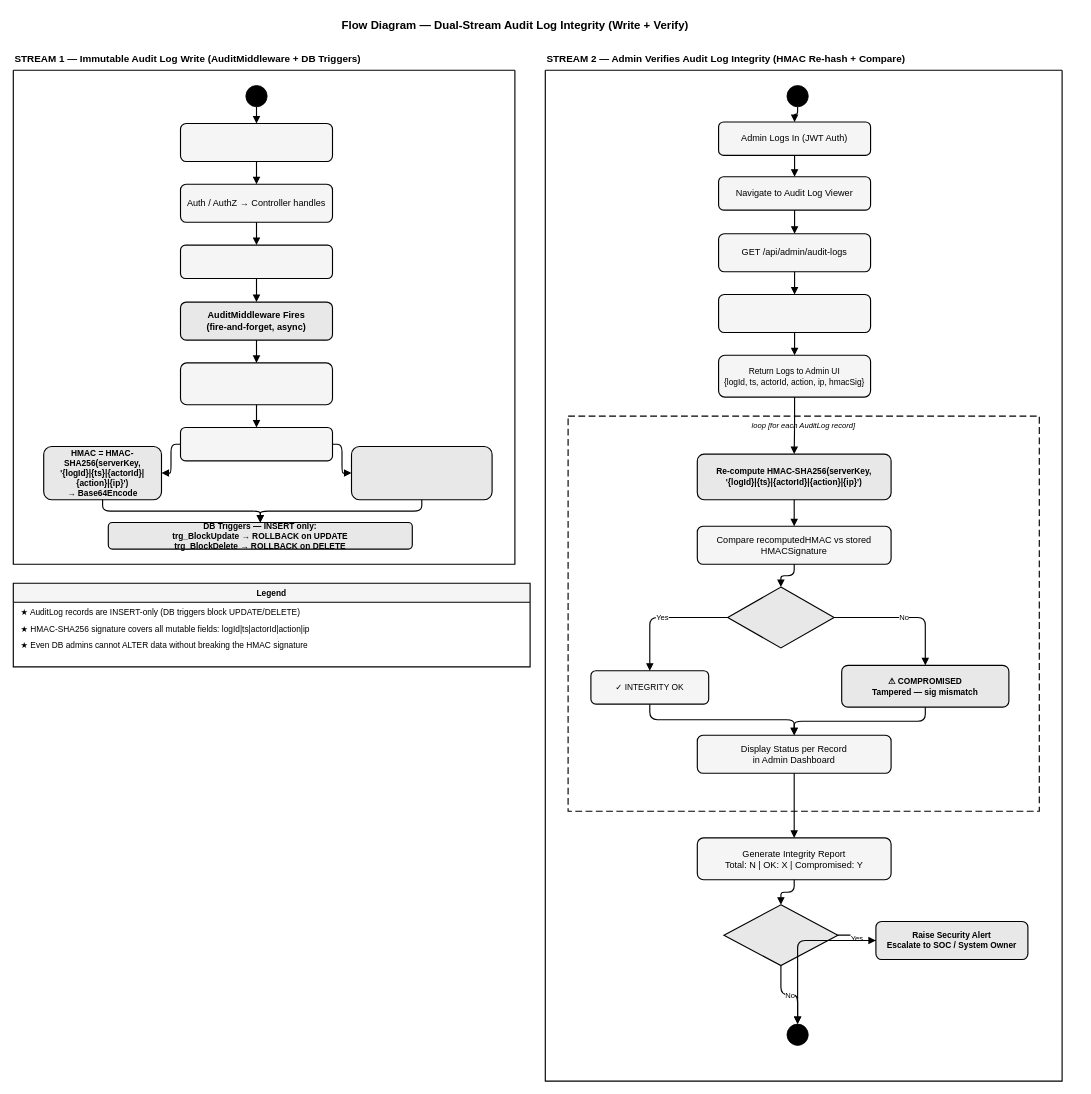
Some shapes in this 1091 by 1094 pixel diagram are drawn without their labels. Here are the shapes that lost their labels. From the top down, the centre of each, then its label:
At (256,142): "HTTP Request Arrives (POST / PUT / PATCH / DELETE)".
At (256,261): "Response sent to Client".
At (794,313): "SELECT AuditLogs (AdminOnly policy enforced)".
At (256,383): "Collect: Method, Path, StatusCode, UserId (JWT), IP (X-Forwarded-For)".
At (256,444): "Generate LogID = NewGuid()".
At (421,473): "INSERT AuditLog {LogID, Timestamp, ActorID, Action, IP, HMACSignature}".
At (780,617): "HMAC Match?".
At (780,935): "Any Compromised?".
